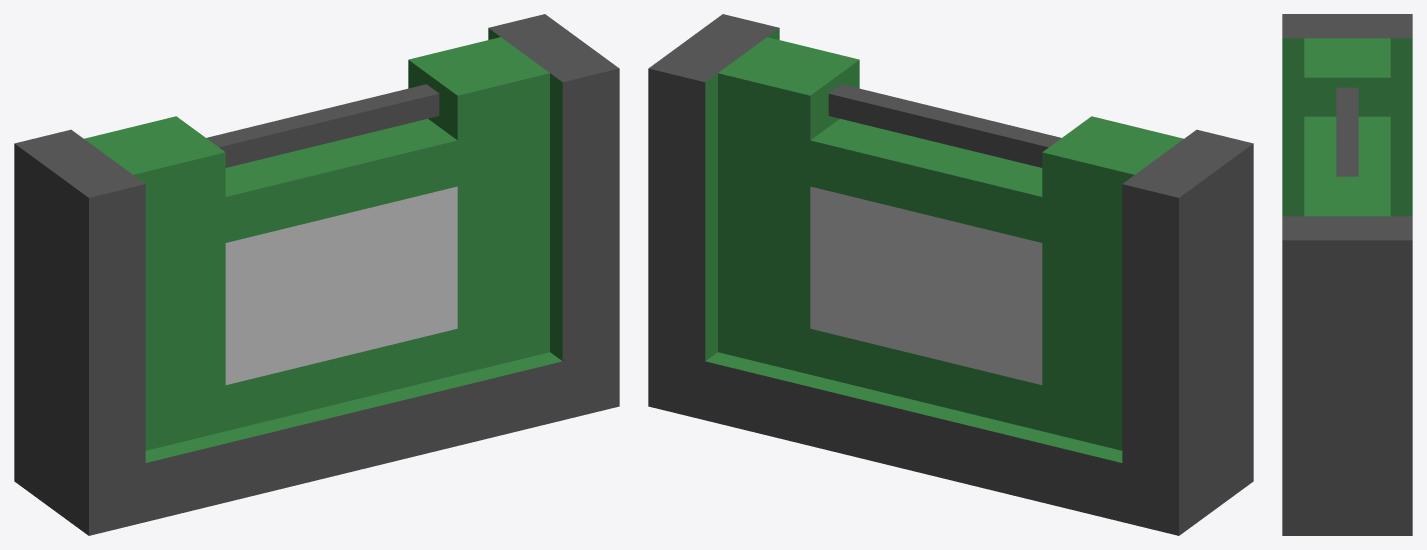
The model's file is item.fbx.
The picture shows the model from 3 angles, left to right: view 1: azimuth 30°, elevation 25°; view 2: azimuth 150°, elevation 25°; view 3: azimuth 270°, elevation 25°; orthographic projection. The views are drawn at different scales.
Visible parts, largest first — view 1: Box002; view 2: Box002; view 3: Box002.
Part boxes in pixels (x1,y1,x2,y2): Box002: (14, 14, 619, 535); Box002: (648, 14, 1253, 535); Box002: (1282, 14, 1412, 535).
Size of the model in its own units: 115 by 27.97 by 70.05.
